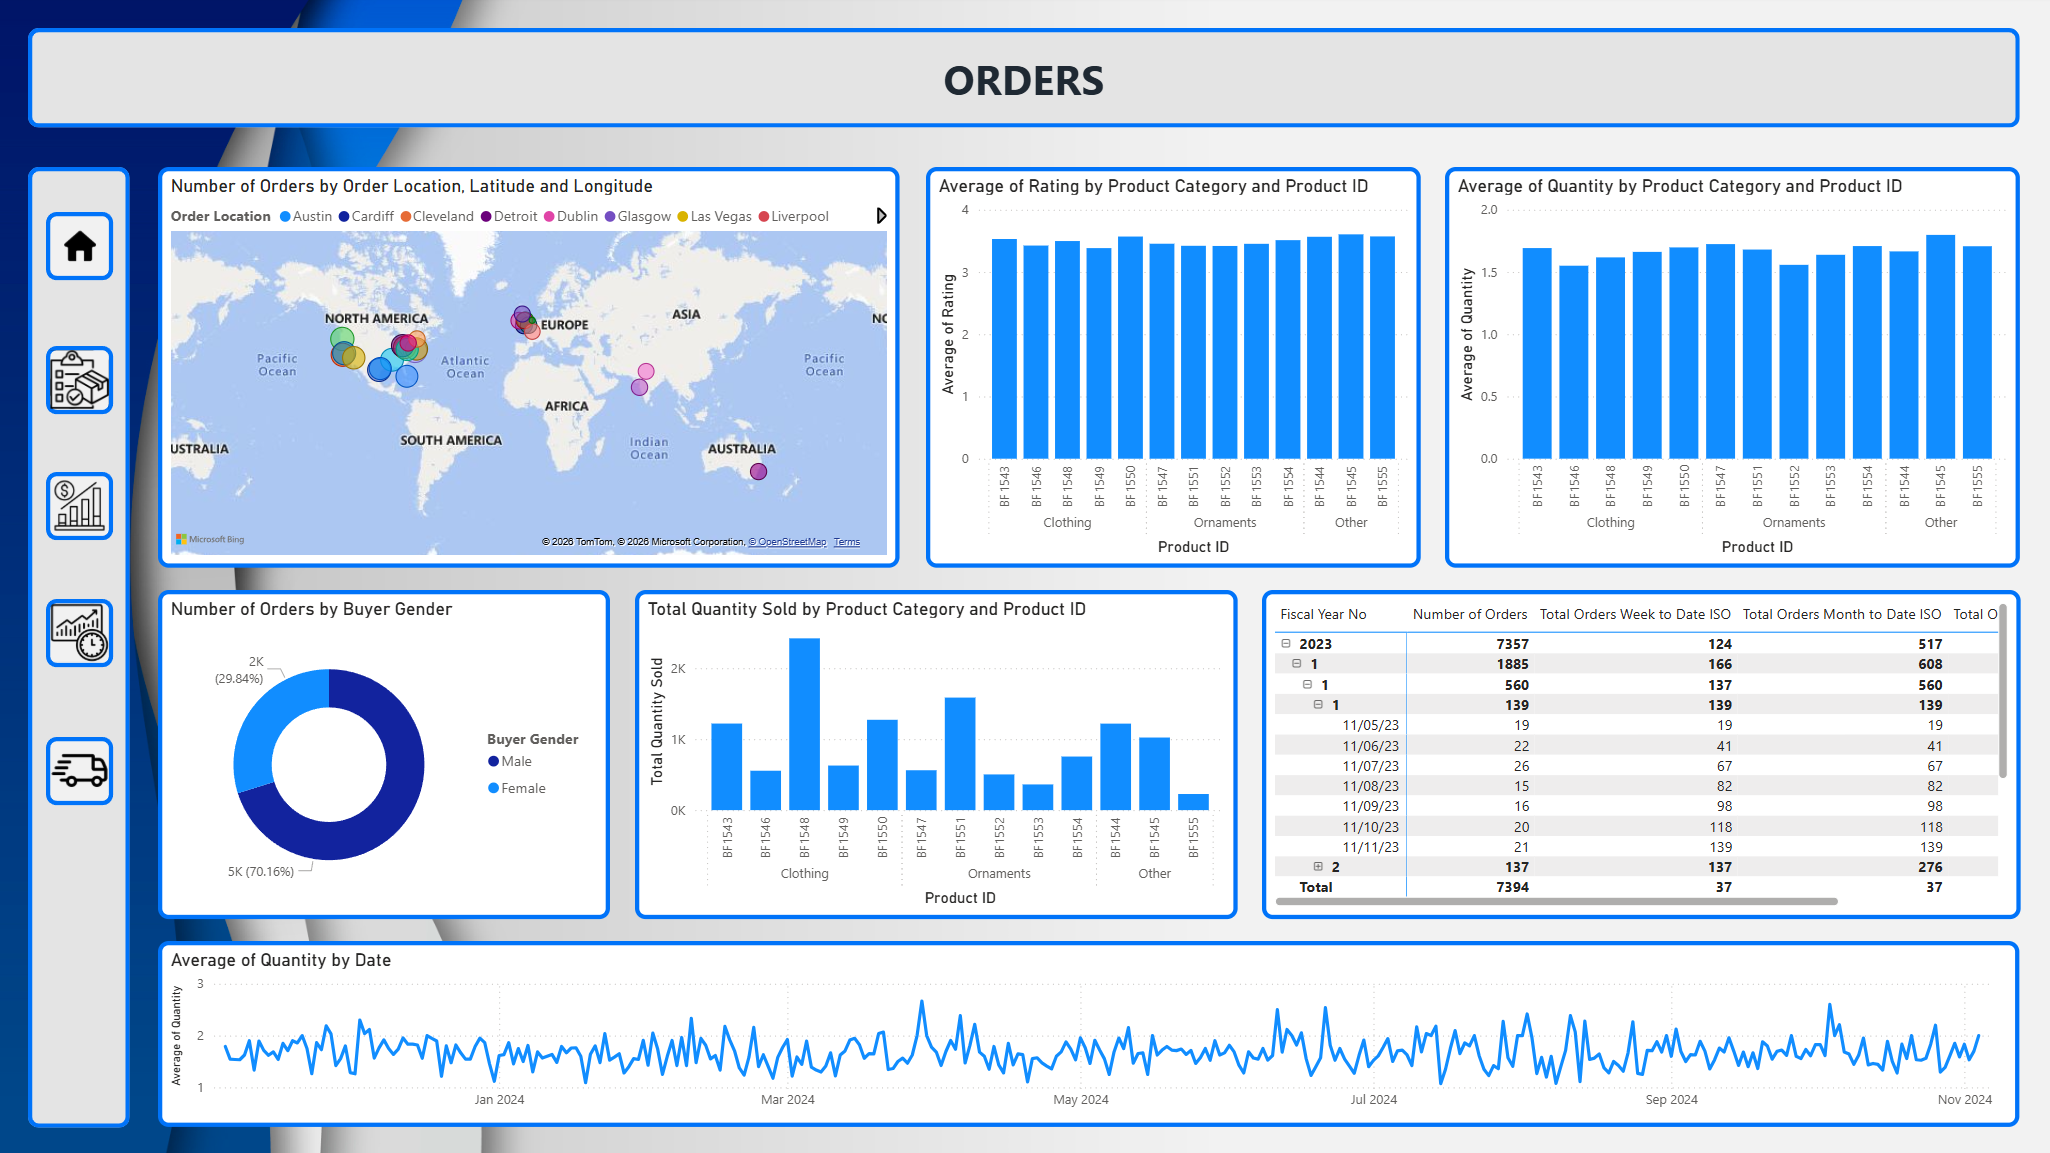

The dashboard page shown, as its layout file describes it:
{"tool":"powerbi","page":{"name":"Orders","canvas":[1920,1080],"ordinal":1},"visuals":[{"type":"shape","box":[27.5,26.5,1864,93.3],"z":0},{"type":"shape","box":[27.5,156.1,95.2,899.1],"z":1000},{"type":"actionButton","box":[44.2,198.3,62.8,63.8],"z":2000},{"type":"actionButton","box":[44.2,323.9,62.8,63.8],"z":3000},{"type":"actionButton","box":[44.2,441.7,62.8,63.8],"z":4000},{"type":"actionButton","box":[44.2,560.5,62.8,63.8],"z":5000},{"type":"actionButton","box":[44.2,690.1,62.8,63.8],"z":6000},{"type":"donutChart","fields":{"Y":["Sales.Number of Orders"],"Category":["Sales.Buyer Gender"]},"box":[149,552,423,308],"z":7000},{"type":"clusteredColumnChart","fields":{"Category":["Sales.Product Category","Sales.Product ID"],"Y":["Sales.Total Quantity Sold"]},"box":[595,552,564,308],"z":8000},{"type":"clusteredColumnChart","fields":{"Category":["Sales.Product Category","Sales.Product ID"],"Y":["Avg(Sales.Quantity)"]},"box":[1353.6,156.1,537.9,375],"z":9000},{"type":"lineChart","fields":{"Category":["Calendar_454.Date"],"Y":["Avg(Sales.Quantity)"]},"box":[149,881,1742,174],"z":10000},{"type":"map","fields":{"X":["Sales.Longitude"],"Y":["Sales.Latitude"],"Size":["Sales.Number of Orders"],"Series":["Sales.Order Location"]},"box":[149,156,694,375],"z":11000},{"type":"clusteredColumnChart","fields":{"Category":["Sales.Product Category","Sales.Product ID"],"Y":["Avg(Sales.Rating)"]},"box":[868,156,463,375],"z":12000},{"type":"pivotTable","fields":{"Rows":["Calendar_454.Fiscal Year No","Calendar_454.Quarter","Calendar_454.454 Month No. in Quarter","Calendar_454.Week No.","Calendar_454.Date"],"Values":["Sales.Number of Orders","Sales.Total Orders Week to Date ISO","Sales.Total Orders Month to Date ISO","Sales.Total Orders Quarter to Date ISO"]},"box":[1182,552,710,308],"z":13000}]}

Visuals, with their boxes in screenshot pixels (x1, y1, x2, y2), scaled from the page's 1920x1080 canvas onto the 2050x1153 screenshot:
shape: crop(29, 28, 2020, 128)
shape: crop(29, 167, 131, 1127)
actionButton: crop(47, 212, 114, 280)
actionButton: crop(47, 346, 114, 414)
actionButton: crop(47, 472, 114, 540)
actionButton: crop(47, 598, 114, 666)
actionButton: crop(47, 737, 114, 805)
donutChart - Sales.Number of Orders x Sales.Buyer Gender: crop(159, 589, 611, 918)
clusteredColumnChart - Sales.Product Category x Sales.Product ID: crop(635, 589, 1237, 918)
clusteredColumnChart - Sales.Product Category x Sales.Product ID: crop(1445, 167, 2020, 567)
lineChart - Calendar_454.Date x Avg(Sales.Quantity): crop(159, 941, 2019, 1126)
map - Sales.Longitude x Sales.Latitude: crop(159, 167, 900, 567)
clusteredColumnChart - Sales.Product Category x Sales.Product ID: crop(927, 167, 1421, 567)
pivotTable - Calendar_454.Fiscal Year No x Calendar_454.Quarter: crop(1262, 589, 2020, 918)
